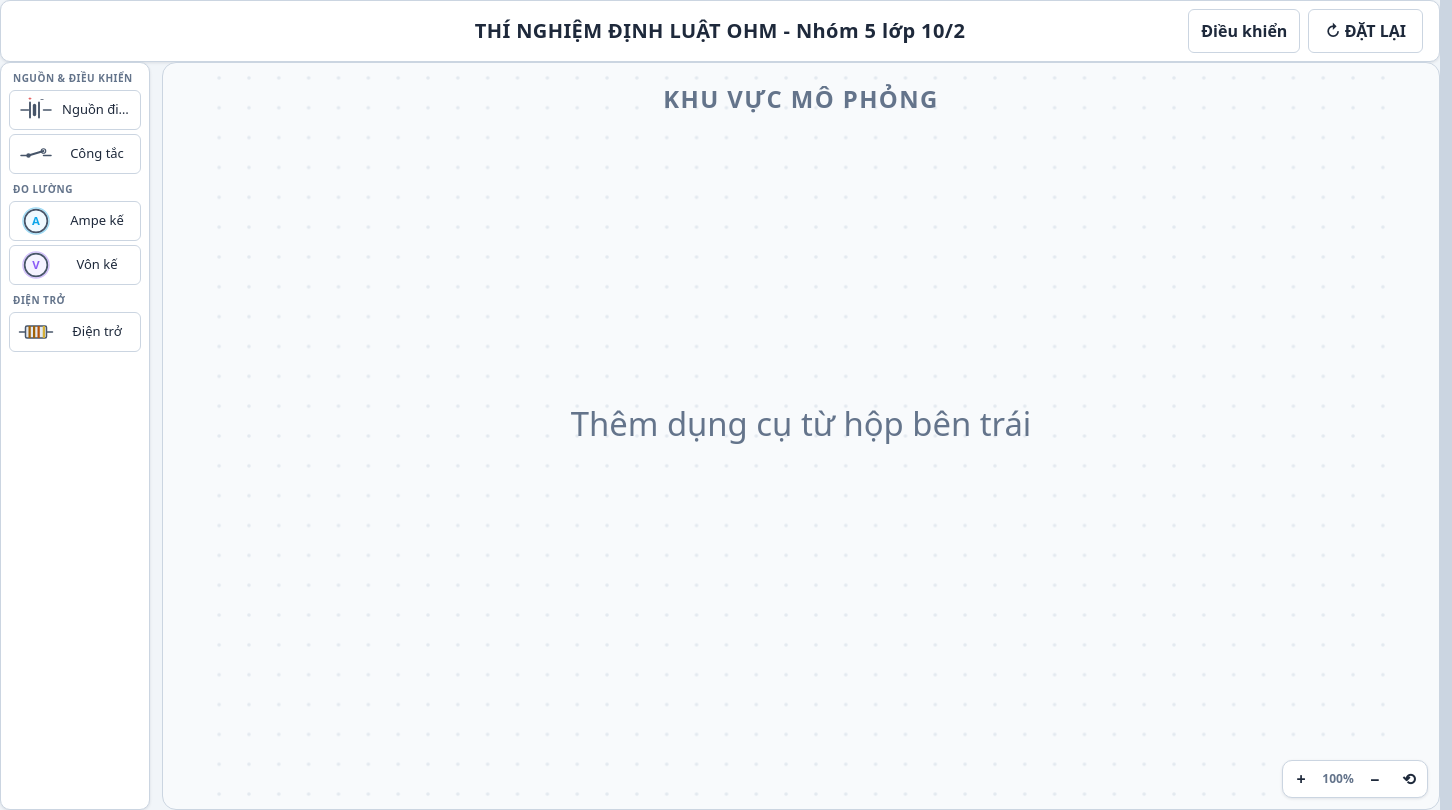
Test: Phase 1 experiment shell › toggles sidebar closed when clicking again
Click the button "Điều khiển". click: (1244, 31)
box: [1188, 9, 1300, 53]
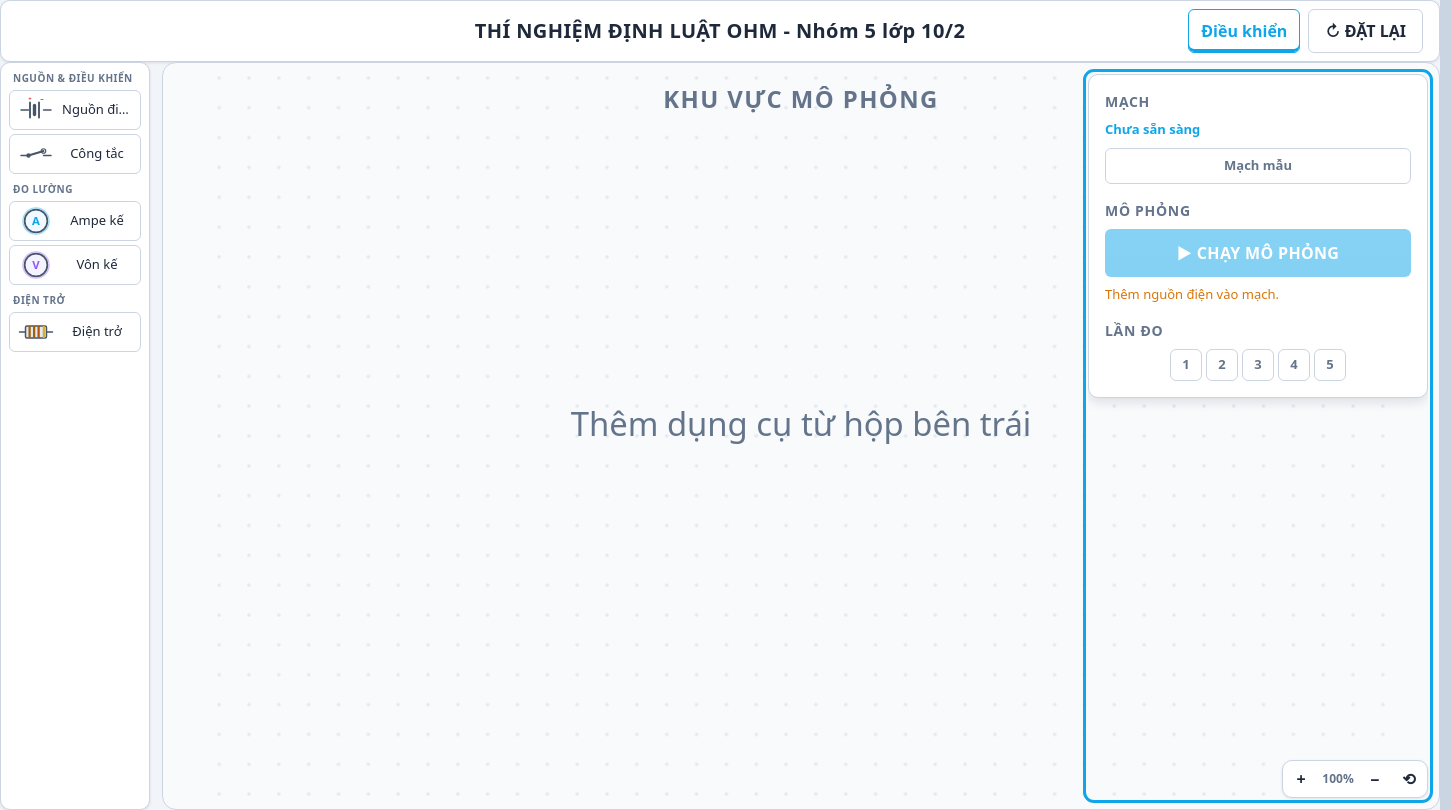
Expected: the element with test id "control-rail" is shown, [1088, 74, 1428, 398]
Click the button "Điều khiển". click: (1244, 31)
box: [1188, 9, 1300, 53]
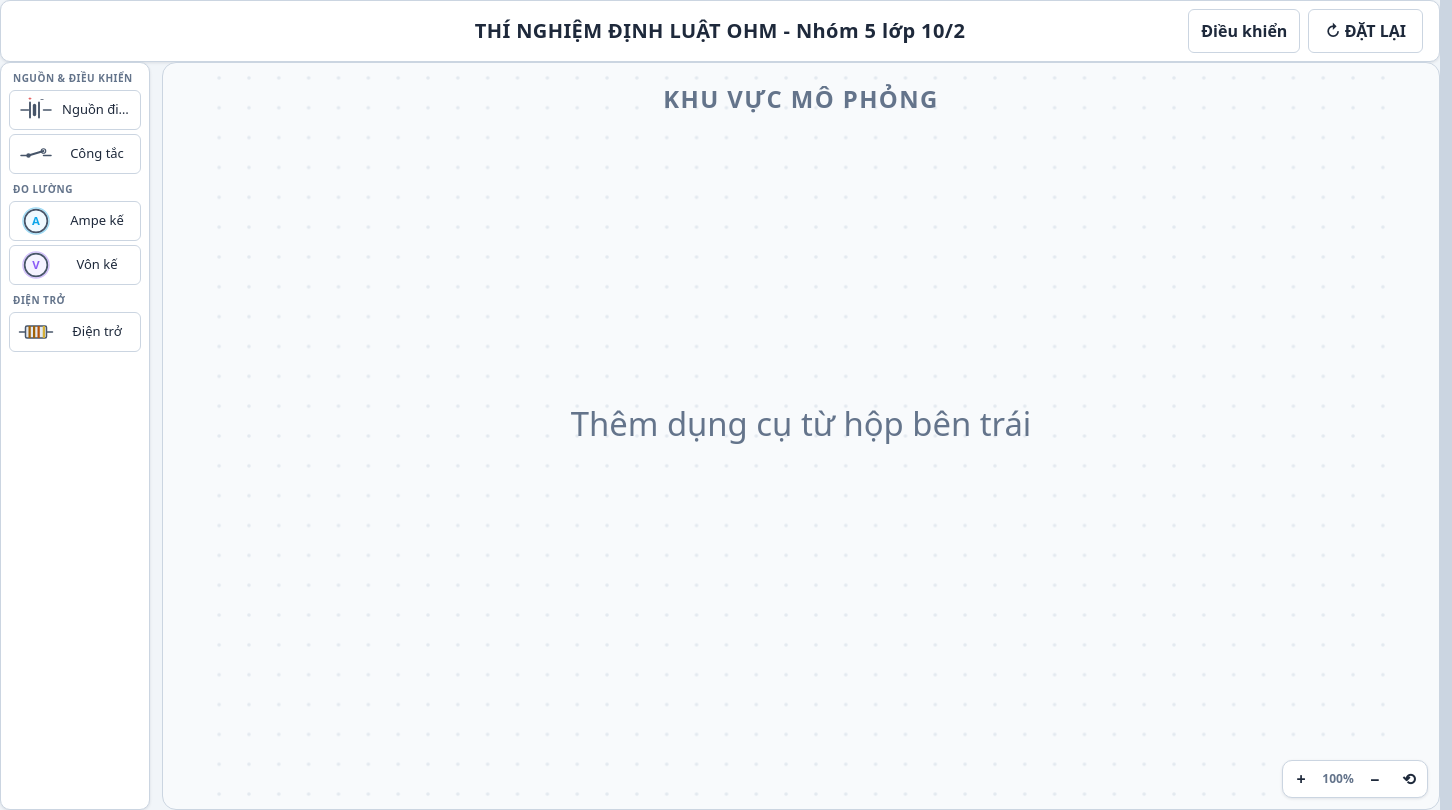
Expected: the element with test id "control-rail" is gone
